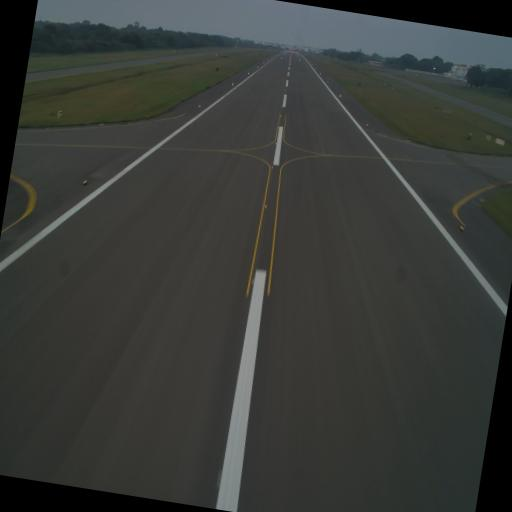on: (249, 274, 260, 288), (456, 220, 466, 234), (78, 174, 88, 188), (261, 201, 269, 216), (268, 159, 276, 171), (364, 120, 371, 129), (196, 103, 202, 111), (274, 139, 278, 145)
